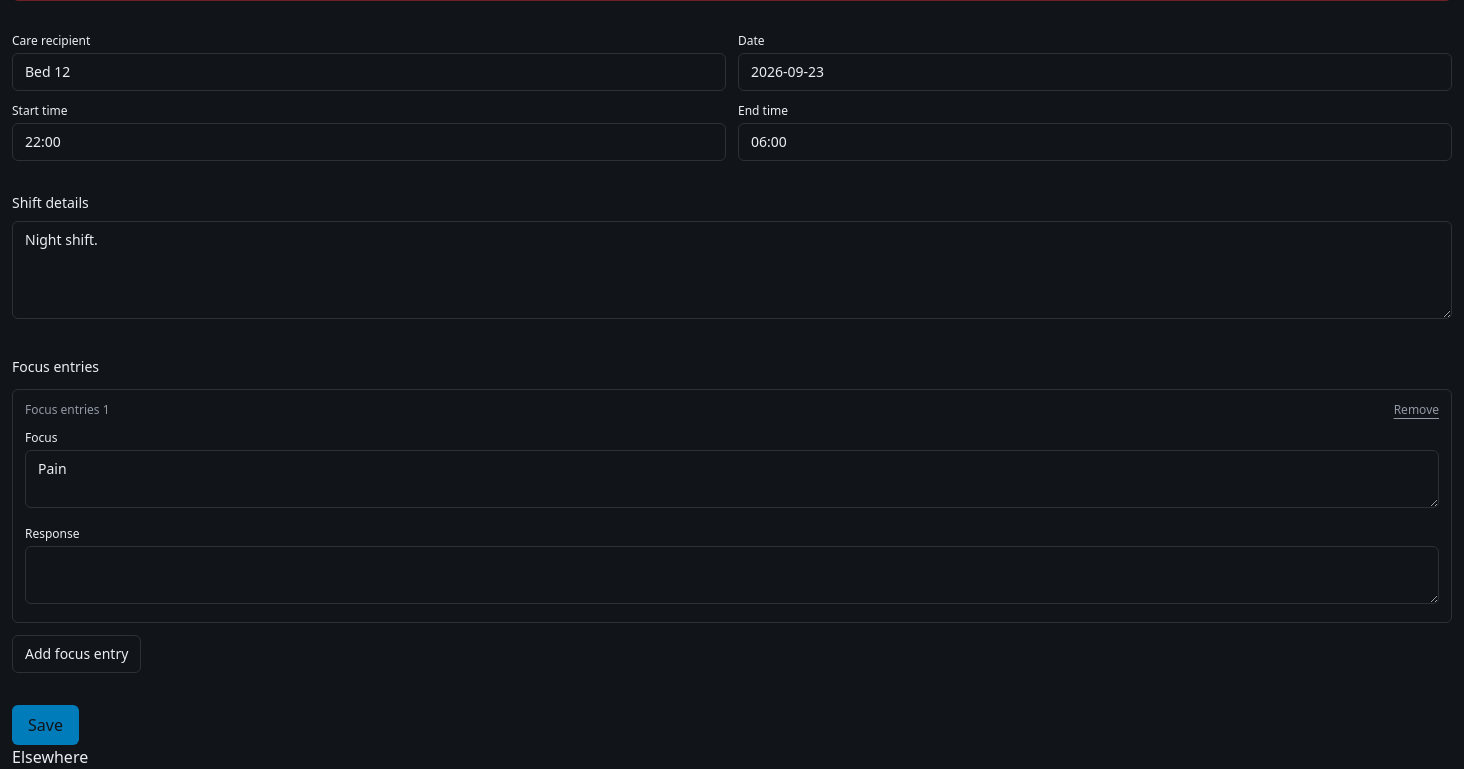
Test: NoteEditor › offers a reload rather than choosing which version survives
The width and height of the screenshot is (1464, 769).
(page scrolled)
Click the button "Save". click: (45, 725)
box: [12,705,79,745]
(page scrolled)
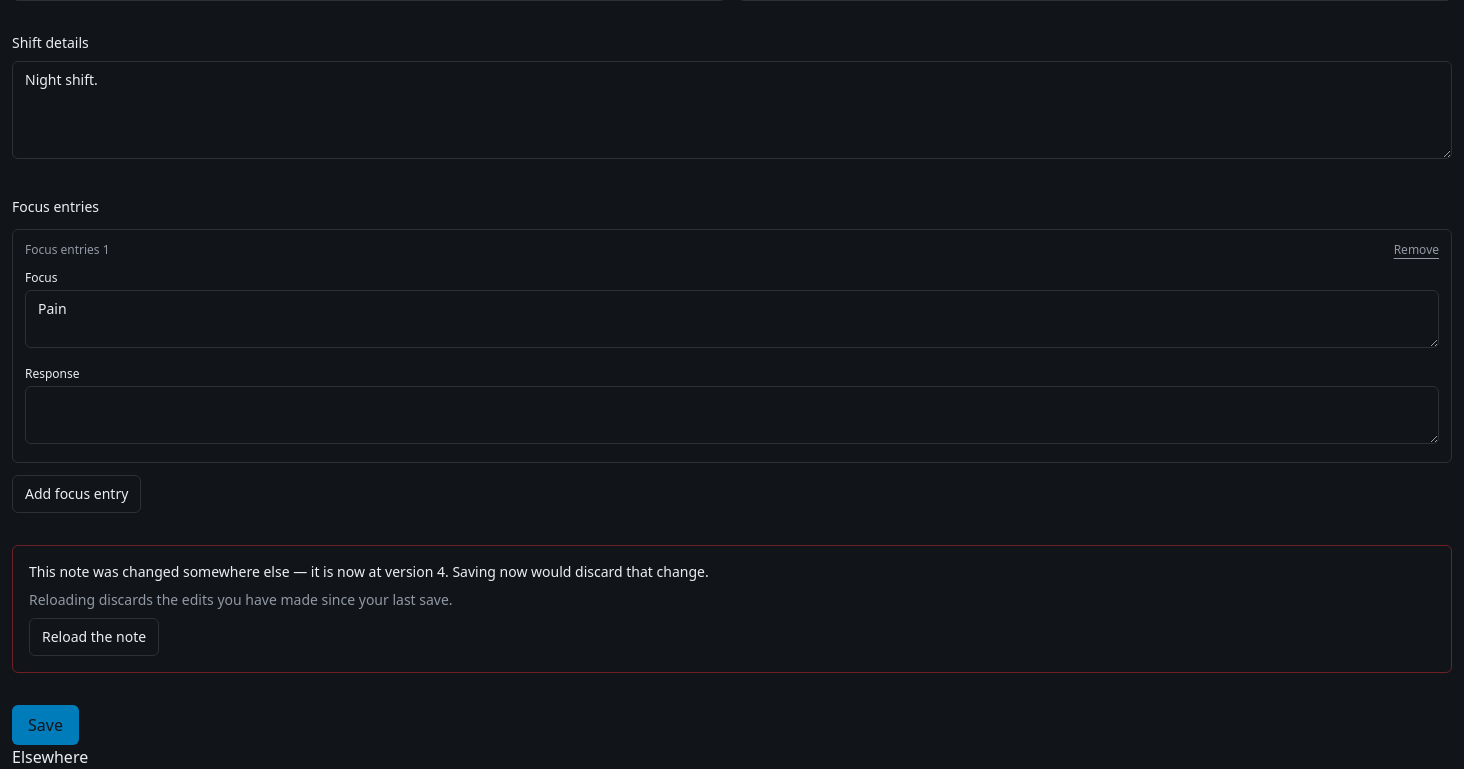
Expected: the button "Reload the note" is shown, [29,618,159,656]
